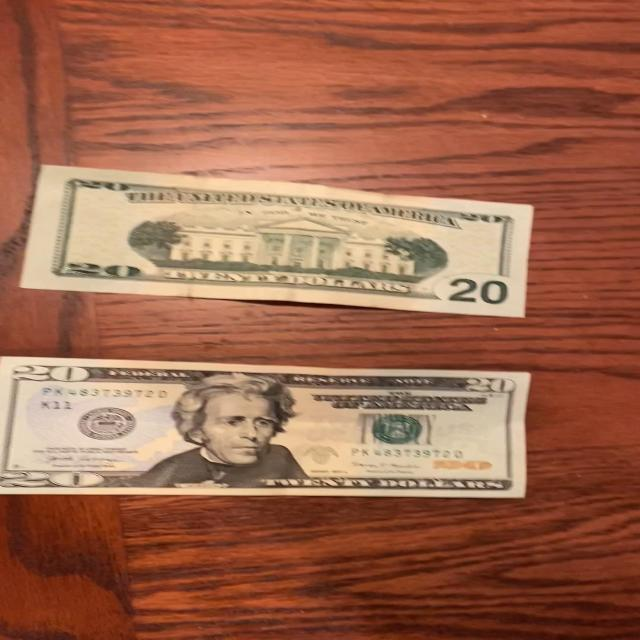20-Back: (13, 162, 546, 321)
20-Front: (0, 352, 539, 500)
